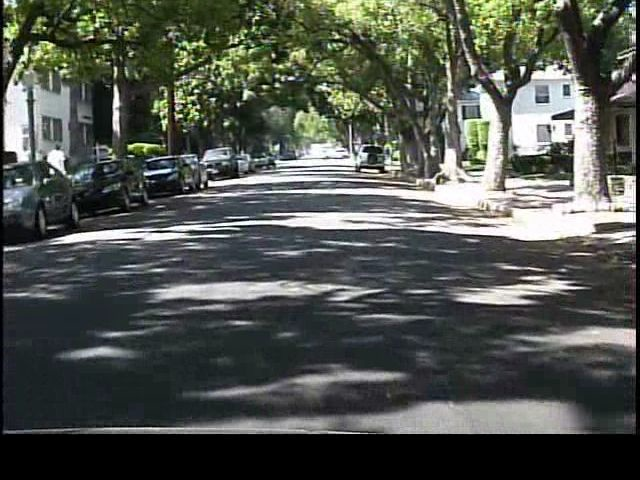person: (45, 139, 72, 202)
